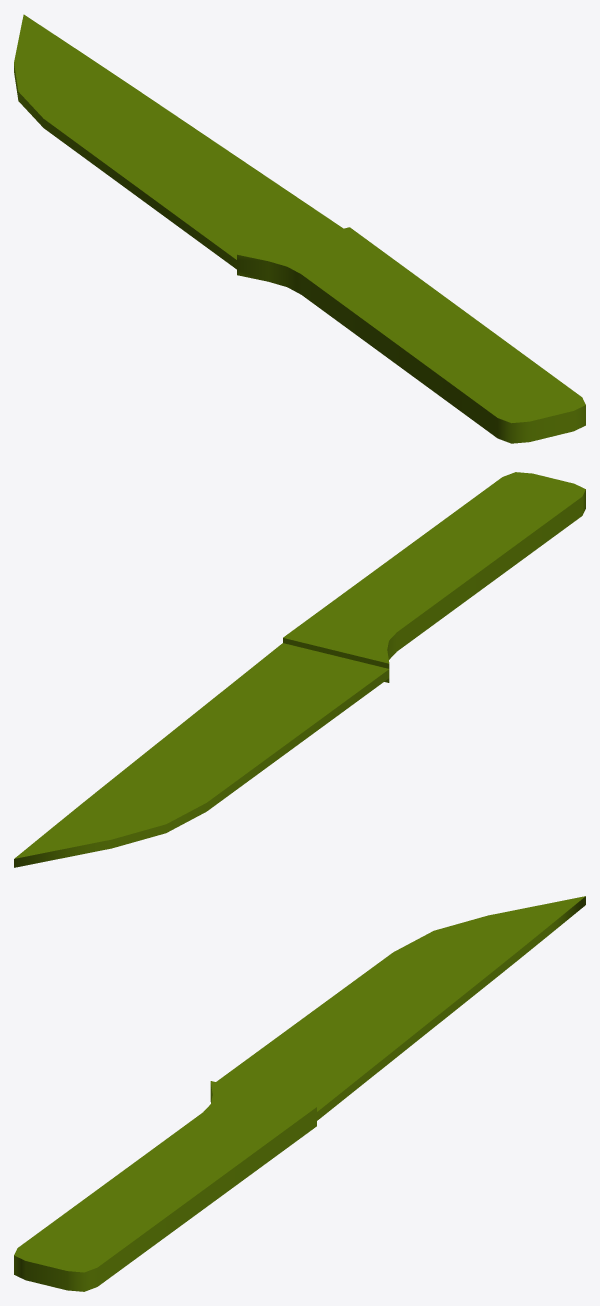
Rendered from SM_Knife_02.fbx.
3 views of the same model, one above another, from view 1: azimuth 30°, elevation 25°; view 2: azimuth 150°, elevation 25°; view 3: azimuth 330°, elevation 25° (orthographic). The views are drawn at different scales.
Parts seen in each view (by area): view 1: SM_Knife_02; view 2: SM_Knife_02; view 3: SM_Knife_02.
Part boxes in pixels (bbox=[...]): SM_Knife_02: bbox=[14, 14, 585, 443]; SM_Knife_02: bbox=[14, 472, 585, 867]; SM_Knife_02: bbox=[14, 896, 585, 1291].
Size of the model in its own units: 3.17 by 0.5508 by 26.75.
